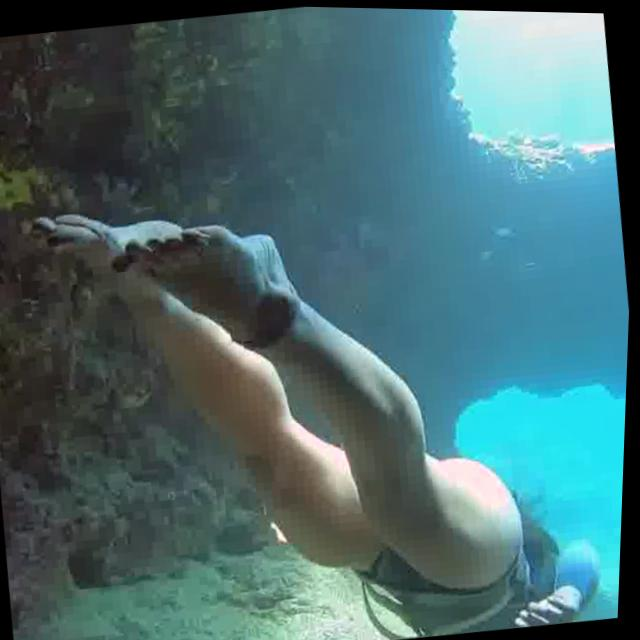human: (0, 130, 629, 640)
